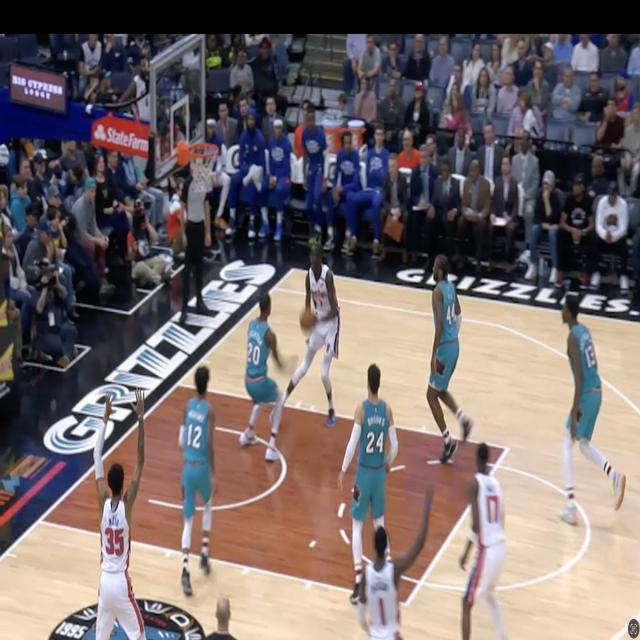no foul: (240, 226, 337, 458), (349, 350, 411, 640), (344, 516, 435, 640)
